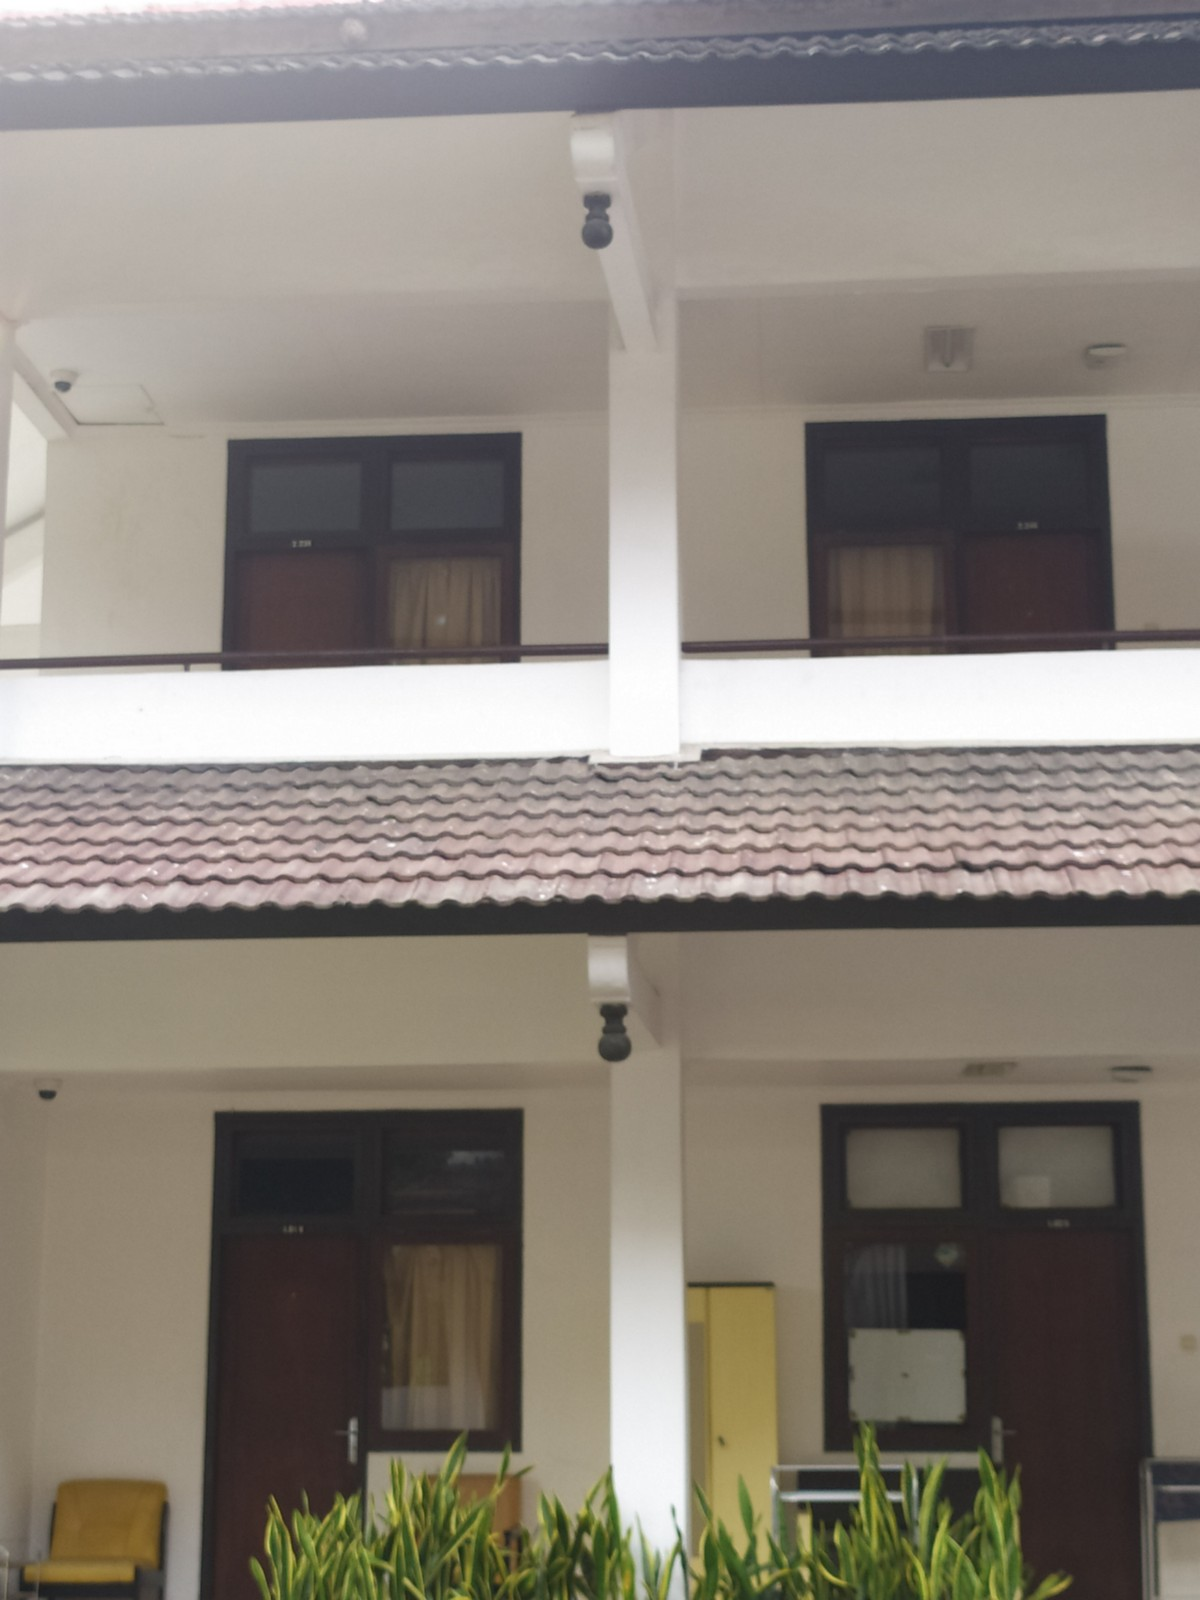concrete column: (597, 1019, 700, 1532), (597, 265, 698, 775)
